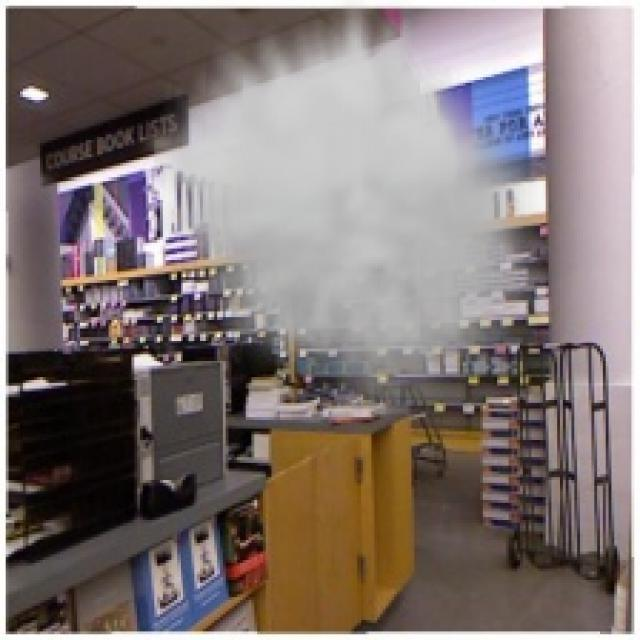Smoke: (154, 0, 546, 415)
